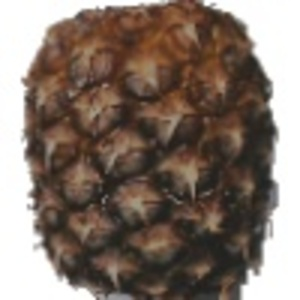abacaxi: (12, 1, 281, 298)
